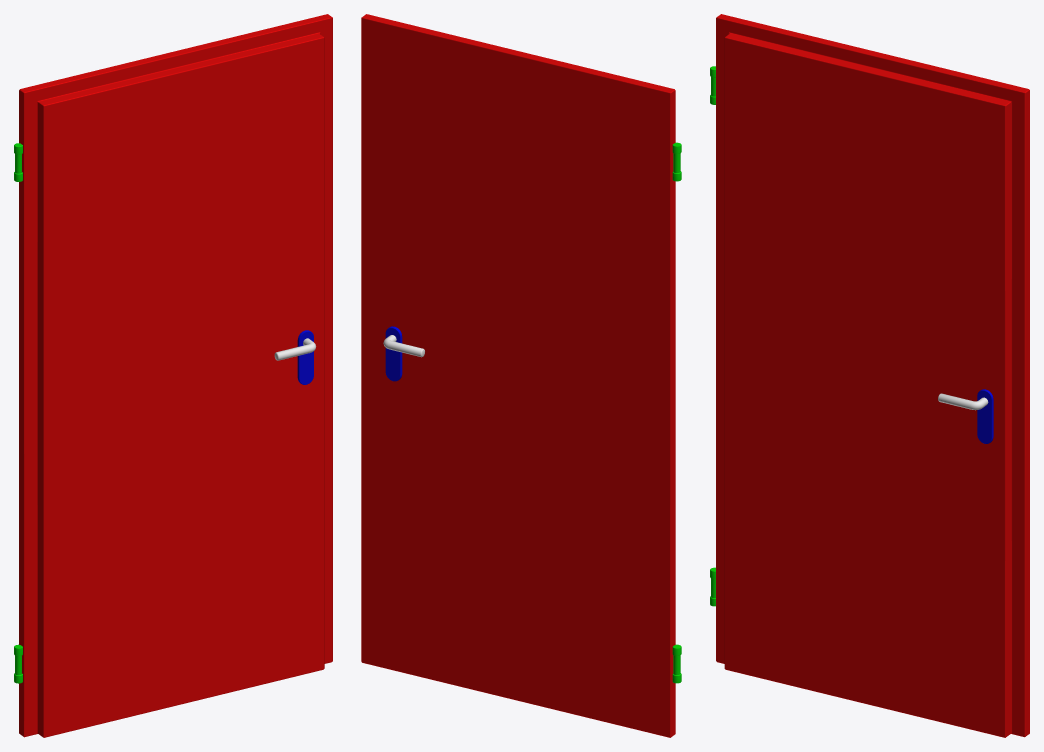
Rendered from Door.fbx.
The picture shows the model from 3 angles, left to right: view 1: azimuth 30°, elevation 25°; view 2: azimuth 150°, elevation 25°; view 3: azimuth 330°, elevation 25°; orthographic projection.
Visible parts, largest first — view 1: door; view 2: door; view 3: door.
Part boxes in pixels (x1=…): door: x1=14, y1=14, x2=332, y2=737; door: x1=361, y1=14, x2=681, y2=737; door: x1=710, y1=14, x2=1029, y2=737.
Size of the model in its own units: 109 by 212 by 19.41.
